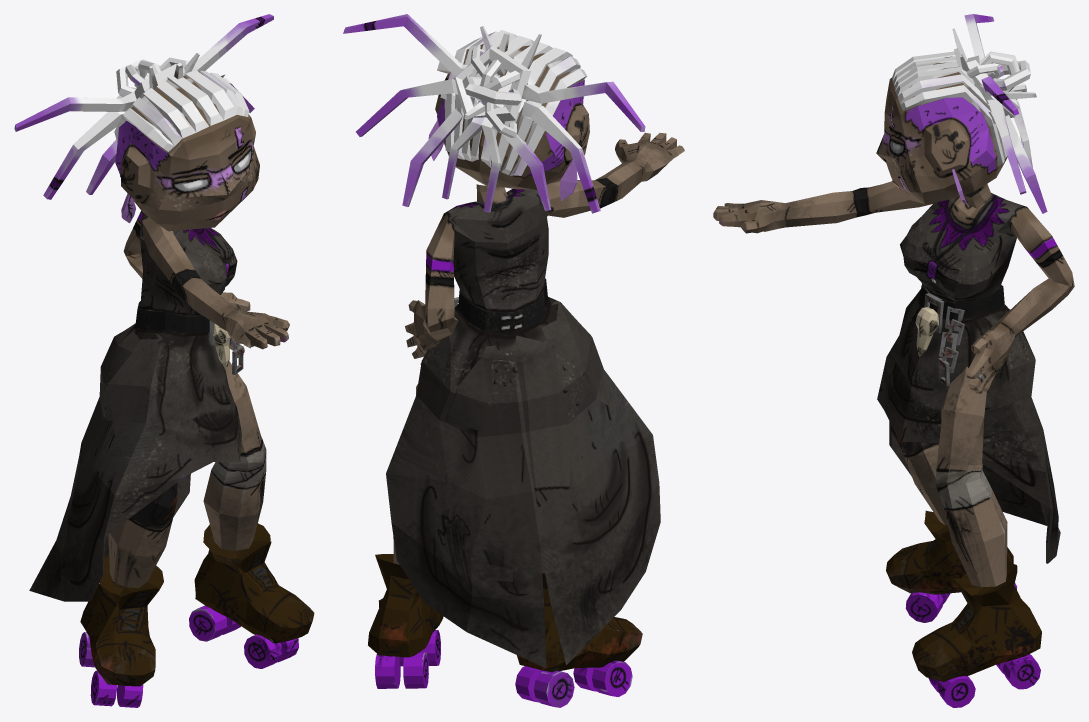
Rendered from bruja_000011.obj.
3 renders of one model, left to right at view 1: azimuth 30°, elevation 25°; view 2: azimuth 150°, elevation 25°; view 3: azimuth 270°, elevation 25°, orthographic. The views are drawn at different scales.
Visible parts, largest first — view 1: Bruja_Plane.001; view 2: Bruja_Plane.001; view 3: Bruja_Plane.001.
Boxes of the visible parts, x1,y1,x2,y2 form: Bruja_Plane.001: (14,14,314,707); Bruja_Plane.001: (343,14,684,707); Bruja_Plane.001: (713,14,1074,707).
Bounding box in the file's own units: 7.39 × 16.41 × 8.71.
